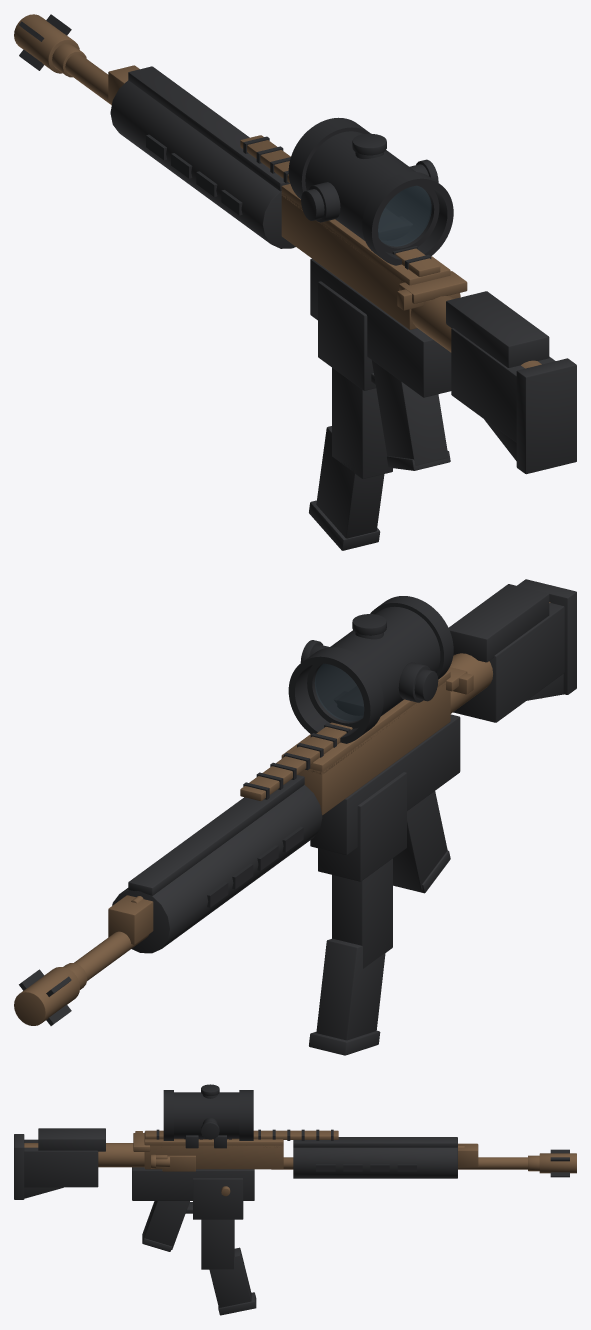
The picture shows the model from 3 angles, top to bottom: view 1: azimuth 30°, elevation 25°; view 2: azimuth 150°, elevation 25°; view 3: azimuth 270°, elevation 25°; orthographic projection. The views are drawn at different scales.
Visible parts, largest first — view 1: AR15_Polymer, AR15_Optic, AR15_Bronze, AR15_Glass; view 2: AR15_Polymer, AR15_Optic, AR15_Bronze, AR15_Glass; view 3: AR15_Polymer, AR15_Bronze, AR15_Optic.
Part boxes in pixels (x1,y1,x2,y2): AR15_Polymer: (110,66,576,550); AR15_Optic: (19,14,453,269); AR15_Bronze: (14,14,541,368); AR15_Glass: (378,185,431,246); AR15_Polymer: (112,579,576,1055); AR15_Optic: (19,596,453,1025); AR15_Bronze: (14,602,550,1025); AR15_Glass: (314,663,364,721); AR15_Polymer: (14,1128,457,1315); AR15_Bronze: (24,1130,576,1196); AR15_Optic: (156,1084,569,1177).
Size of the model in its own units: 0.1175 by 0.3804 by 0.872.
